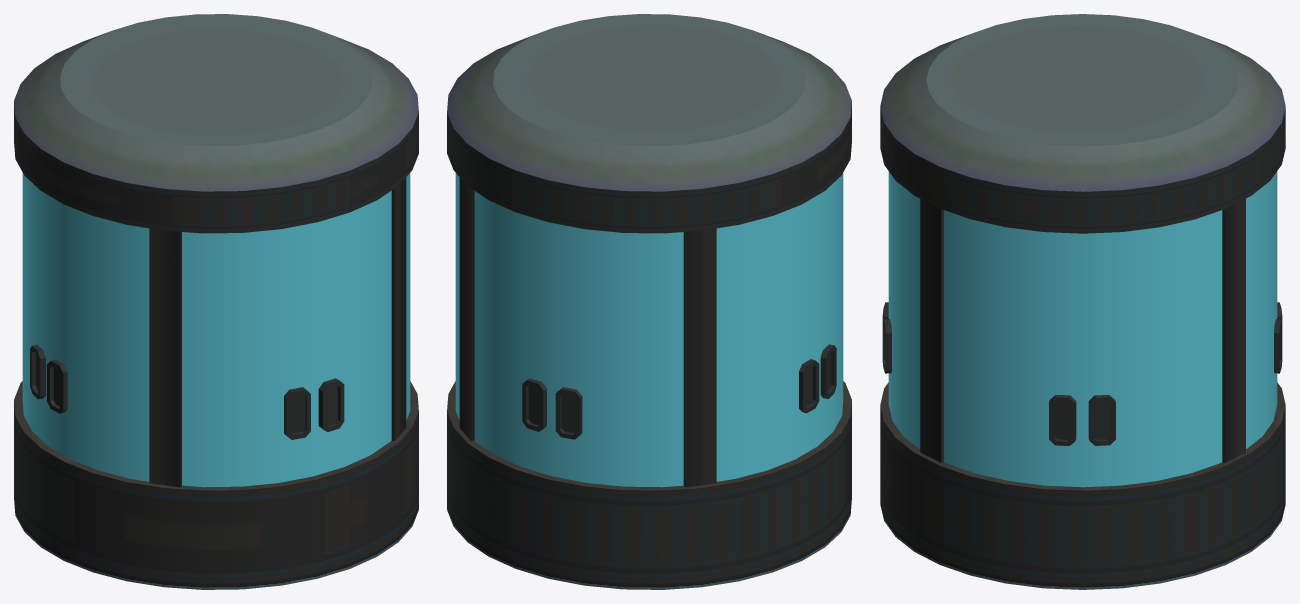
The model's file is mdlCLBarFridge.fbx.
3 renders of one model, left to right at view 1: azimuth 30°, elevation 25°; view 2: azimuth 150°, elevation 25°; view 3: azimuth 270°, elevation 25°, orthographic.
Visible parts, largest first — view 1: BarFridge; view 2: BarFridge; view 3: BarFridge.
Boxes of the visible parts, x1,y1,x2,y2 form: BarFridge: (14,14,418,589); BarFridge: (447,14,851,589); BarFridge: (880,14,1285,589).
Bounding box in the file's own units: 567 × 654 × 567.
